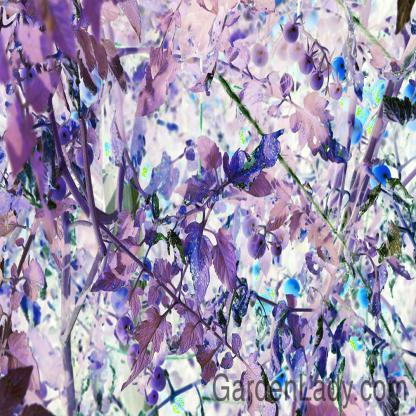Tomato Early blight leaf: (221, 128, 286, 192), (290, 95, 348, 164), (136, 57, 178, 118), (184, 223, 212, 302), (93, 256, 143, 294), (147, 155, 179, 198), (176, 175, 212, 202)
Tomato leaf bacterial spot: (210, 229, 238, 293)
